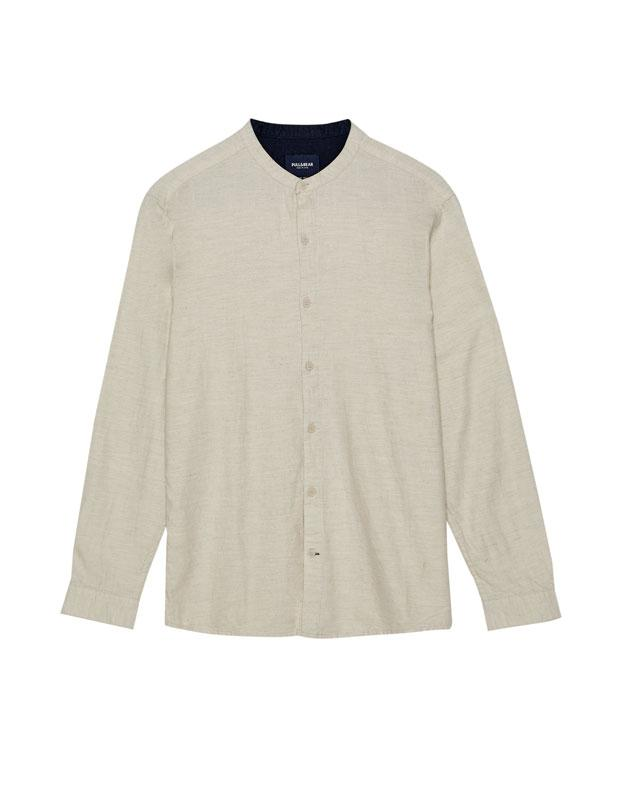teeshirt: (45, 117, 572, 653)
